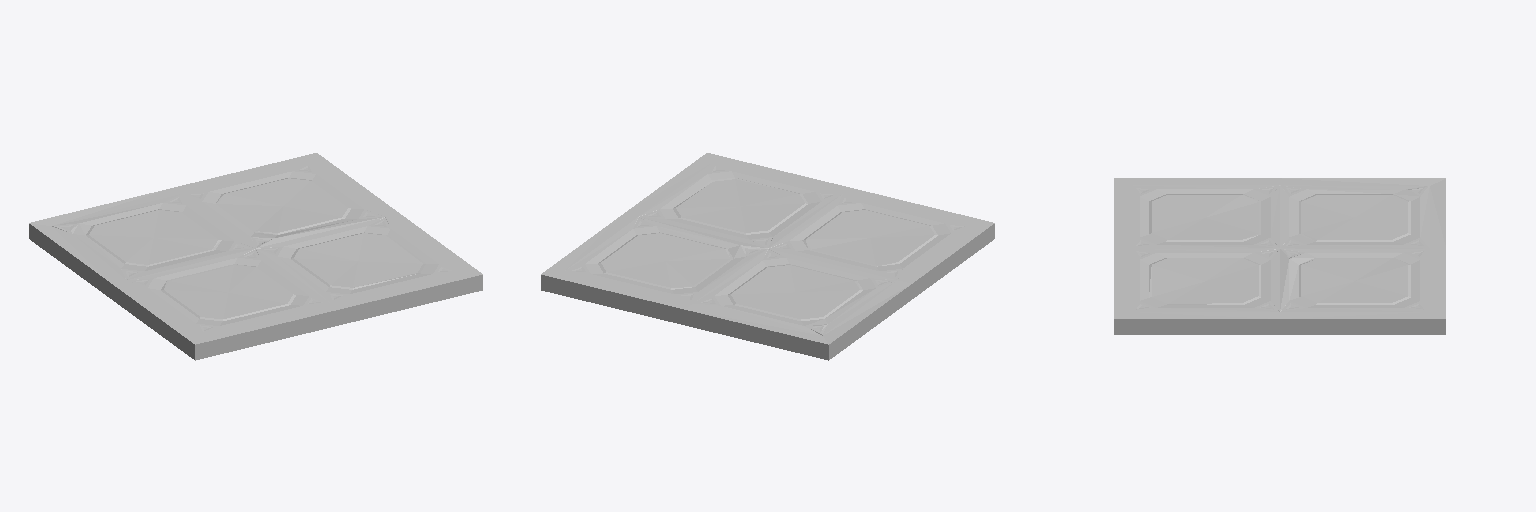
Rendered from Platform-8.obj.
3 views of the same model, side by side, from view 1: azimuth 30°, elevation 25°; view 2: azimuth 150°, elevation 25°; view 3: azimuth 270°, elevation 25° (orthographic).
Parts seen in each view (by area): view 1: Cube.001_Cube.017; view 2: Cube.001_Cube.017; view 3: Cube.001_Cube.017.
Boxes of the visible parts, <box> form: Cube.001_Cube.017: <box>29,153,482,360</box>; Cube.001_Cube.017: <box>541,153,994,360</box>; Cube.001_Cube.017: <box>1114,178,1445,334</box>.
Size of the model in its own units: 7.96 by 0.4537 by 7.96.